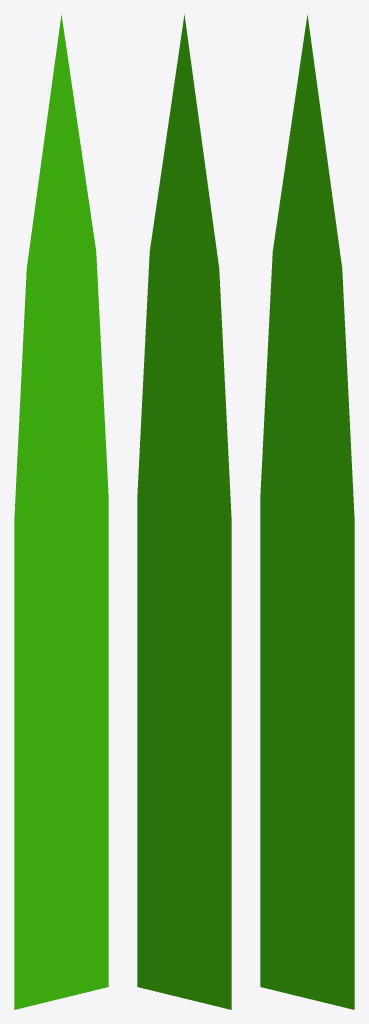
File: grass.fbx
3 views of the same model, side by side, from view 1: azimuth 30°, elevation 25°; view 2: azimuth 150°, elevation 25°; view 3: azimuth 330°, elevation 25° (orthographic).
Parts seen in each view (by area): view 1: Plane; view 2: Plane; view 3: Plane.
Part boxes in pixels (x1,y1,x2,y2): Plane: [14, 14, 108, 1009]; Plane: [137, 14, 231, 1009]; Plane: [260, 14, 354, 1009].
Bounding box in the file's own units: 20 × 200 × 8.74e-06.
